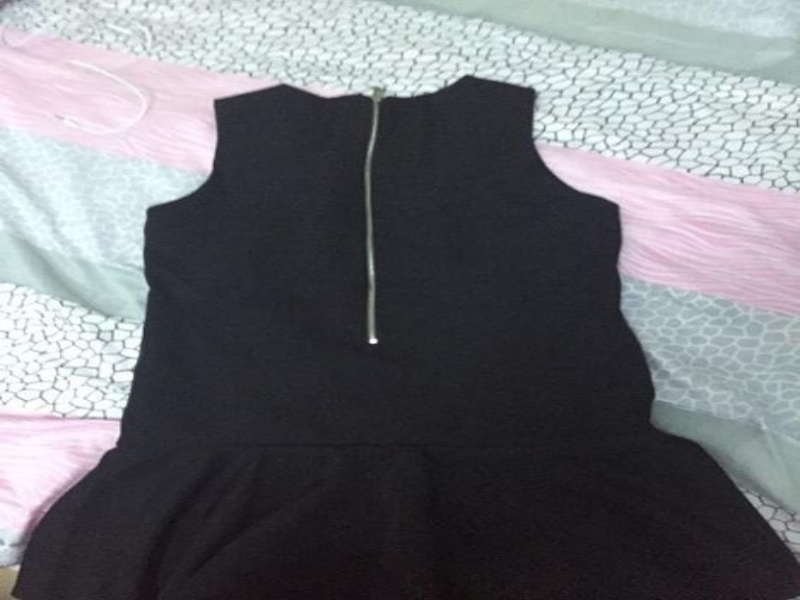vest_dress: (10, 76, 797, 599)
